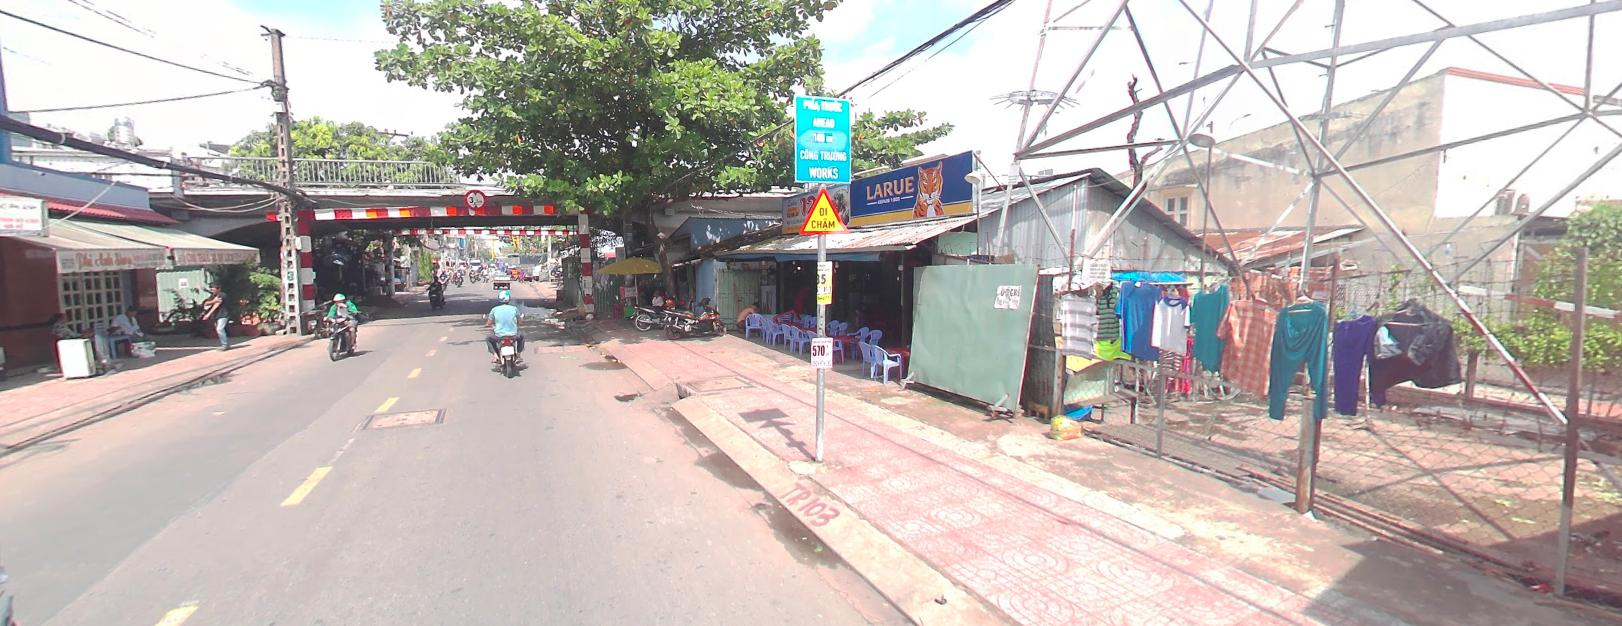Cam con lai: (464, 187, 486, 208), (464, 188, 487, 208)
Nguy hiem: (798, 186, 850, 233), (797, 186, 849, 232)
